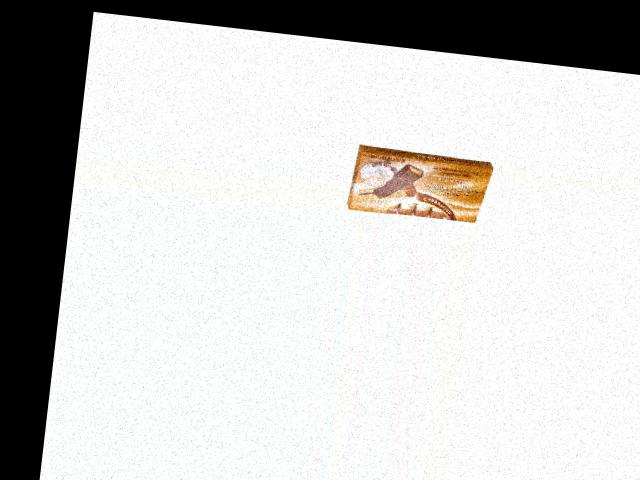chocolate: (345, 143, 497, 226)
